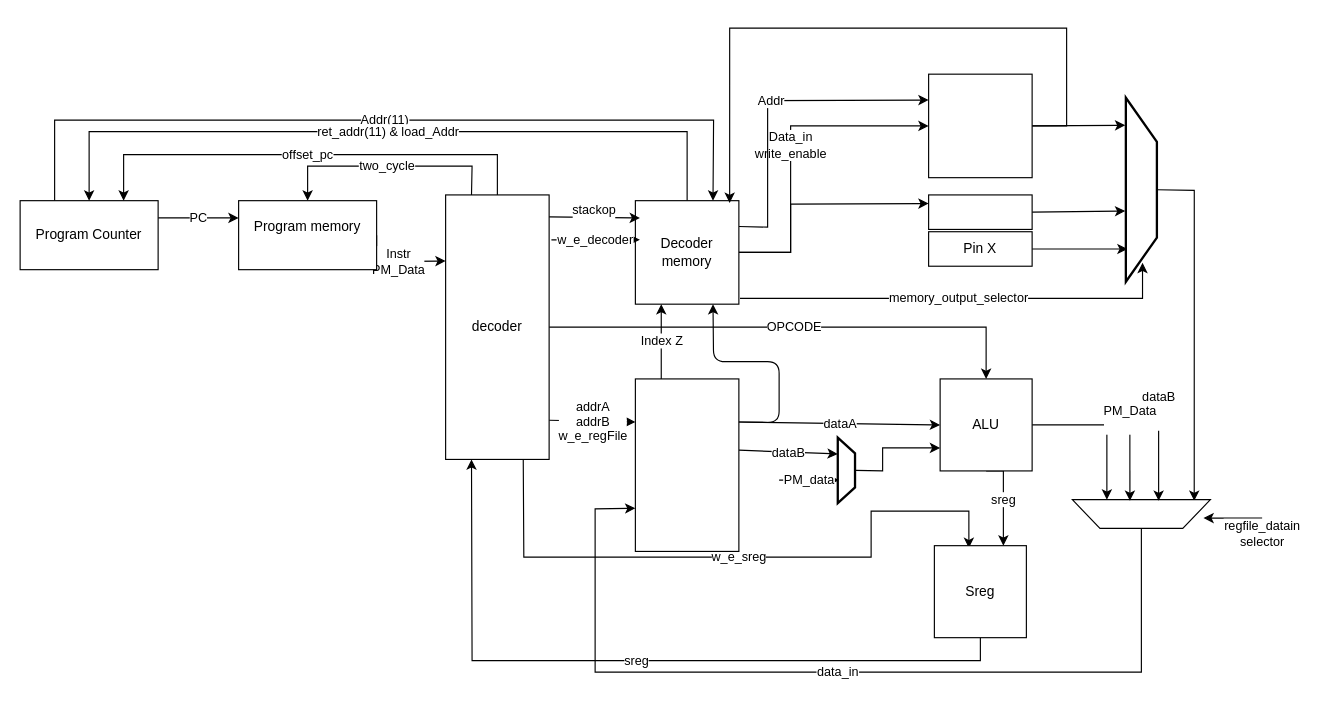
Image size: 1320x702. Some labels were removed from this diagram. The shapes that lost their labels are listed below. From the top down, each one's box as (x1, y1, x2, y2) in pixels, then its label:
(927, 73, 1032, 178): Data memory
(927, 194, 1032, 229): Port X
(634, 378, 739, 551): Register file
